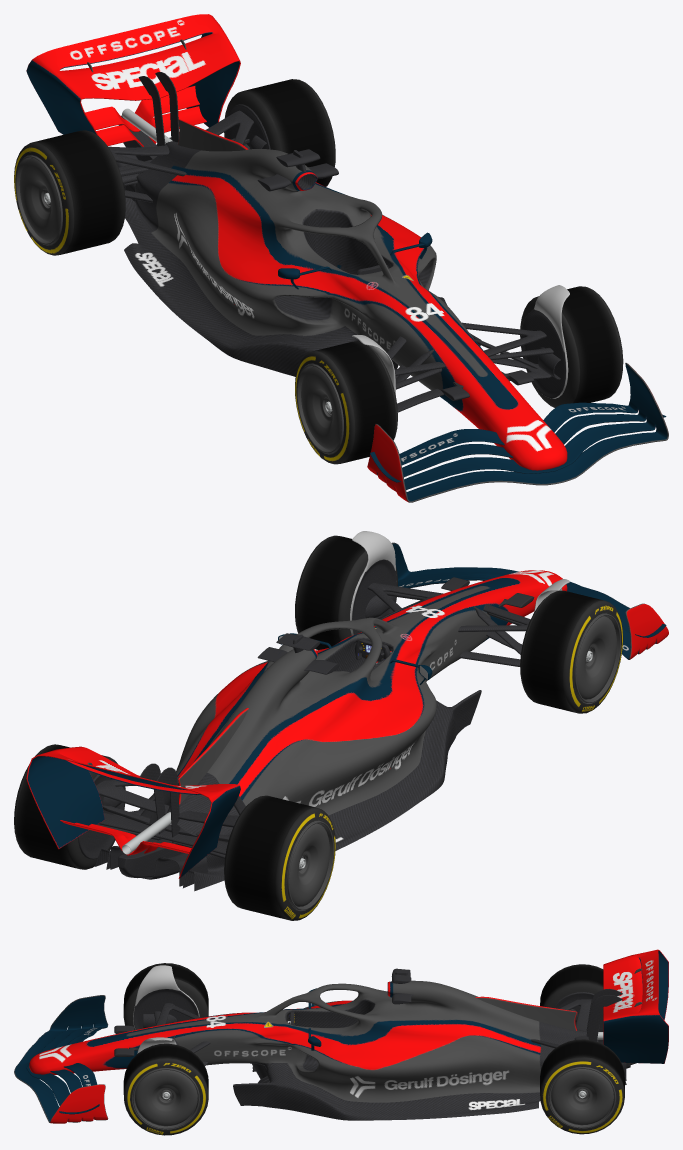
File: F122_conceptCar_deliveryOct21_20211015.fbx
3 views of the same model, one above another, from view 1: azimuth 30°, elevation 25°; view 2: azimuth 150°, elevation 25°; view 3: azimuth 270°, elevation 25° (orthographic). The views are drawn at different scales.
Parts seen in each view (by area): view 1: chassis_lo, wings, rearWheel_R, suspension, frontWheel_R, frontWheel_L, rearWheel_L, appliances, LowerBody; view 2: chassis_lo, wings, rearWheel_R, suspension, frontWheel_R, frontWheel_L, rearWheel_L, LowerBody, appliances; view 3: chassis_lo, wings, rearWheel_L, frontWheel_L, suspension, rearWheel_R, frontWheel_R, appliances, LowerBody.
Boxes of the visible parts, x1,y1,x2,y2 form: chassis_lo: (124, 119, 567, 470); wings: (26, 14, 668, 502); rearWheel_R: (14, 130, 125, 255); suspension: (108, 104, 569, 412); frontWheel_R: (295, 341, 397, 464); frontWheel_L: (520, 286, 623, 407); rearWheel_L: (224, 79, 335, 186); appliances: (257, 149, 534, 400); LowerBody: (116, 108, 398, 369); chassis_lo: (95, 570, 567, 891); wings: (26, 542, 668, 878); rearWheel_R: (224, 795, 335, 920); suspension: (77, 531, 569, 859); frontWheel_R: (520, 590, 623, 713); frontWheel_L: (295, 535, 397, 649); rearWheel_L: (14, 744, 125, 869); LowerBody: (110, 812, 208, 886); appliances: (257, 577, 534, 684); chassis_lo: (29, 980, 626, 1120); wings: (14, 949, 668, 1123); rearWheel_L: (540, 1039, 624, 1134); frontWheel_L: (123, 1043, 208, 1135); suspension: (133, 965, 603, 1065); rearWheel_R: (540, 964, 603, 1007); frontWheel_R: (123, 963, 208, 1030); appliances: (114, 968, 413, 1056); LowerBody: (252, 1032, 636, 1083).
Bounding box in the file's own units: 179 × 96.7 × 498.
Materials: 8 (8 with a texture image).
